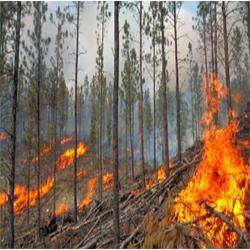fire: (192, 132, 244, 228), (13, 183, 40, 206), (61, 150, 86, 159)
